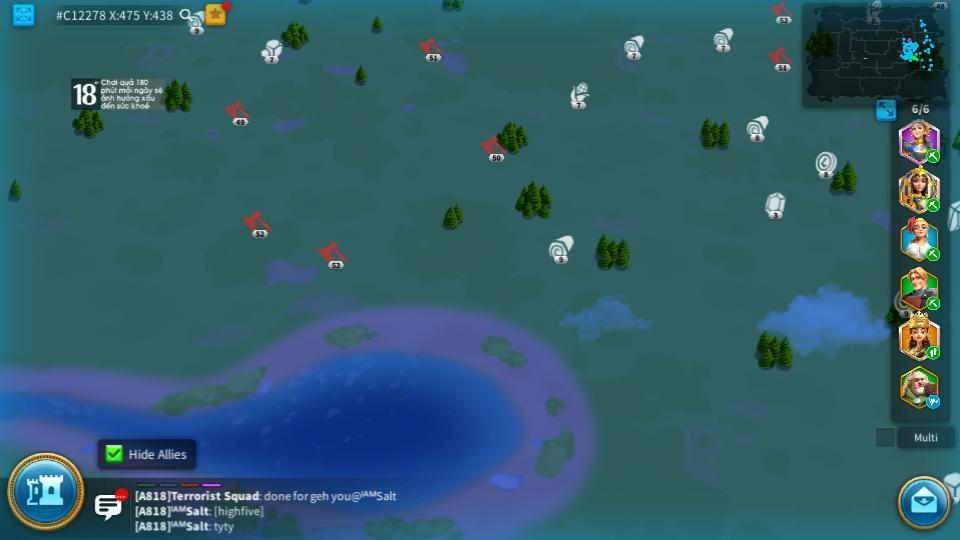gem-z-out: (763, 192, 786, 219)
march_farming: (925, 199, 941, 212), (925, 297, 941, 310), (926, 250, 940, 261)
march_idle: (925, 396, 942, 408)
march_marching: (925, 347, 941, 359), (925, 150, 941, 162)
